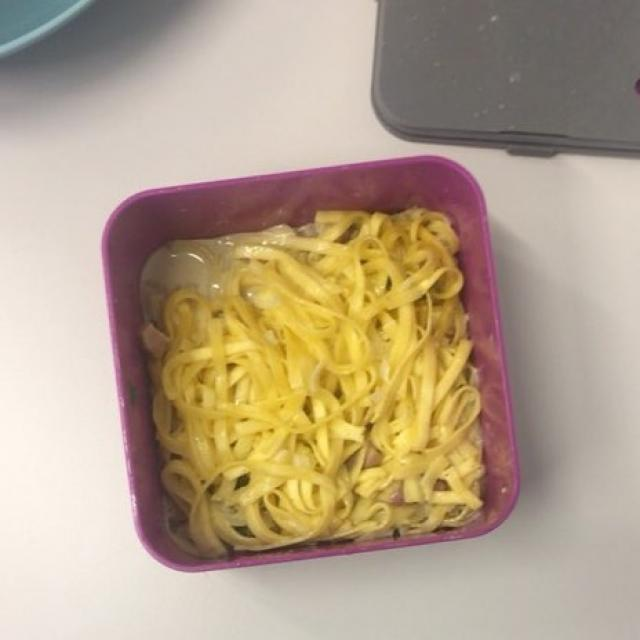pasta: (147, 209, 478, 550)
sauce: (156, 218, 364, 378)
